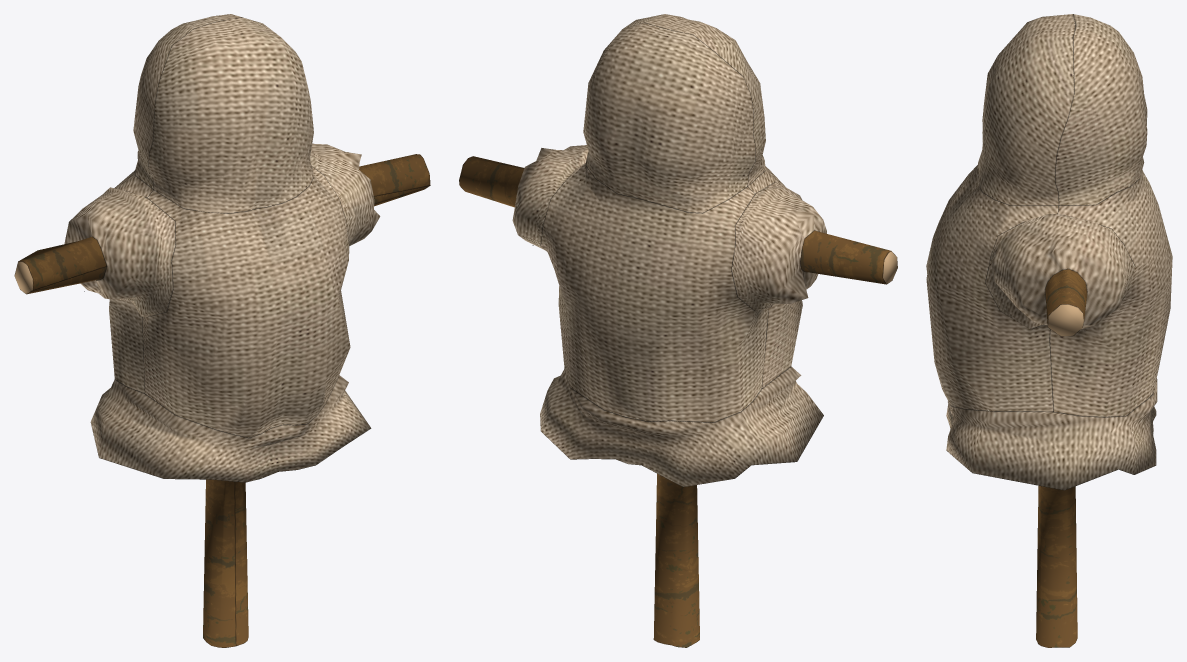
The model's file is practice_dummy.fbx.
The picture shows the model from 3 angles, left to right: view 1: azimuth 30°, elevation 25°; view 2: azimuth 150°, elevation 25°; view 3: azimuth 270°, elevation 25°; orthographic projection.
Visible parts, largest first — view 1: practice_dummy; view 2: practice_dummy; view 3: practice_dummy.
Boxes of the visible parts, x1,y1,x2,y2 form: practice_dummy: (14, 14, 430, 647); practice_dummy: (459, 14, 897, 647); practice_dummy: (926, 14, 1172, 647).
Size of the model in its own units: 2.05 by 1.06 by 2.92.
Materials: 1 (1 with a texture image).
